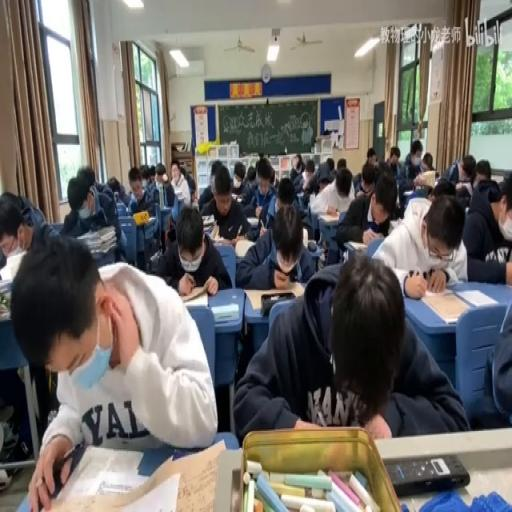calculator: (243, 284, 301, 310), (421, 292, 469, 322), (212, 302, 238, 322), (233, 236, 254, 258), (184, 288, 207, 306), (416, 168, 435, 186), (216, 232, 238, 246), (318, 209, 341, 222), (346, 240, 368, 252), (389, 219, 402, 233), (0, 278, 12, 292), (210, 222, 219, 240), (202, 213, 214, 225), (301, 224, 307, 248), (246, 214, 259, 224), (490, 174, 503, 184), (149, 248, 159, 260), (142, 215, 156, 223), (296, 189, 306, 199), (231, 192, 240, 199), (403, 189, 413, 194)
paper: (13, 232, 213, 512), (234, 255, 464, 442), (377, 189, 469, 292), (234, 195, 314, 284), (467, 278, 511, 430), (59, 165, 124, 266), (461, 168, 512, 280), (334, 165, 398, 252), (197, 164, 251, 248), (0, 191, 46, 267), (300, 158, 332, 219), (442, 154, 477, 202), (146, 161, 174, 209), (271, 178, 298, 223), (402, 140, 424, 184), (104, 173, 126, 205), (405, 182, 433, 205), (334, 166, 352, 198), (76, 165, 96, 193), (471, 158, 490, 186), (181, 164, 195, 200), (256, 155, 274, 183), (371, 215, 390, 236), (362, 165, 375, 189), (290, 152, 304, 174), (138, 164, 150, 188), (364, 146, 378, 165), (421, 152, 434, 172), (388, 146, 400, 166), (245, 165, 255, 185), (316, 180, 330, 194), (210, 170, 216, 194), (304, 169, 314, 182), (325, 156, 334, 170), (337, 156, 346, 168), (272, 174, 278, 188), (149, 174, 155, 184)
person: (384, 452, 470, 494), (307, 239, 318, 252), (244, 230, 254, 240)
